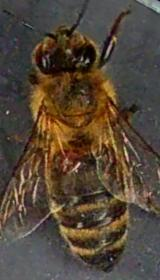varroa_mite: (48, 145, 88, 175)
